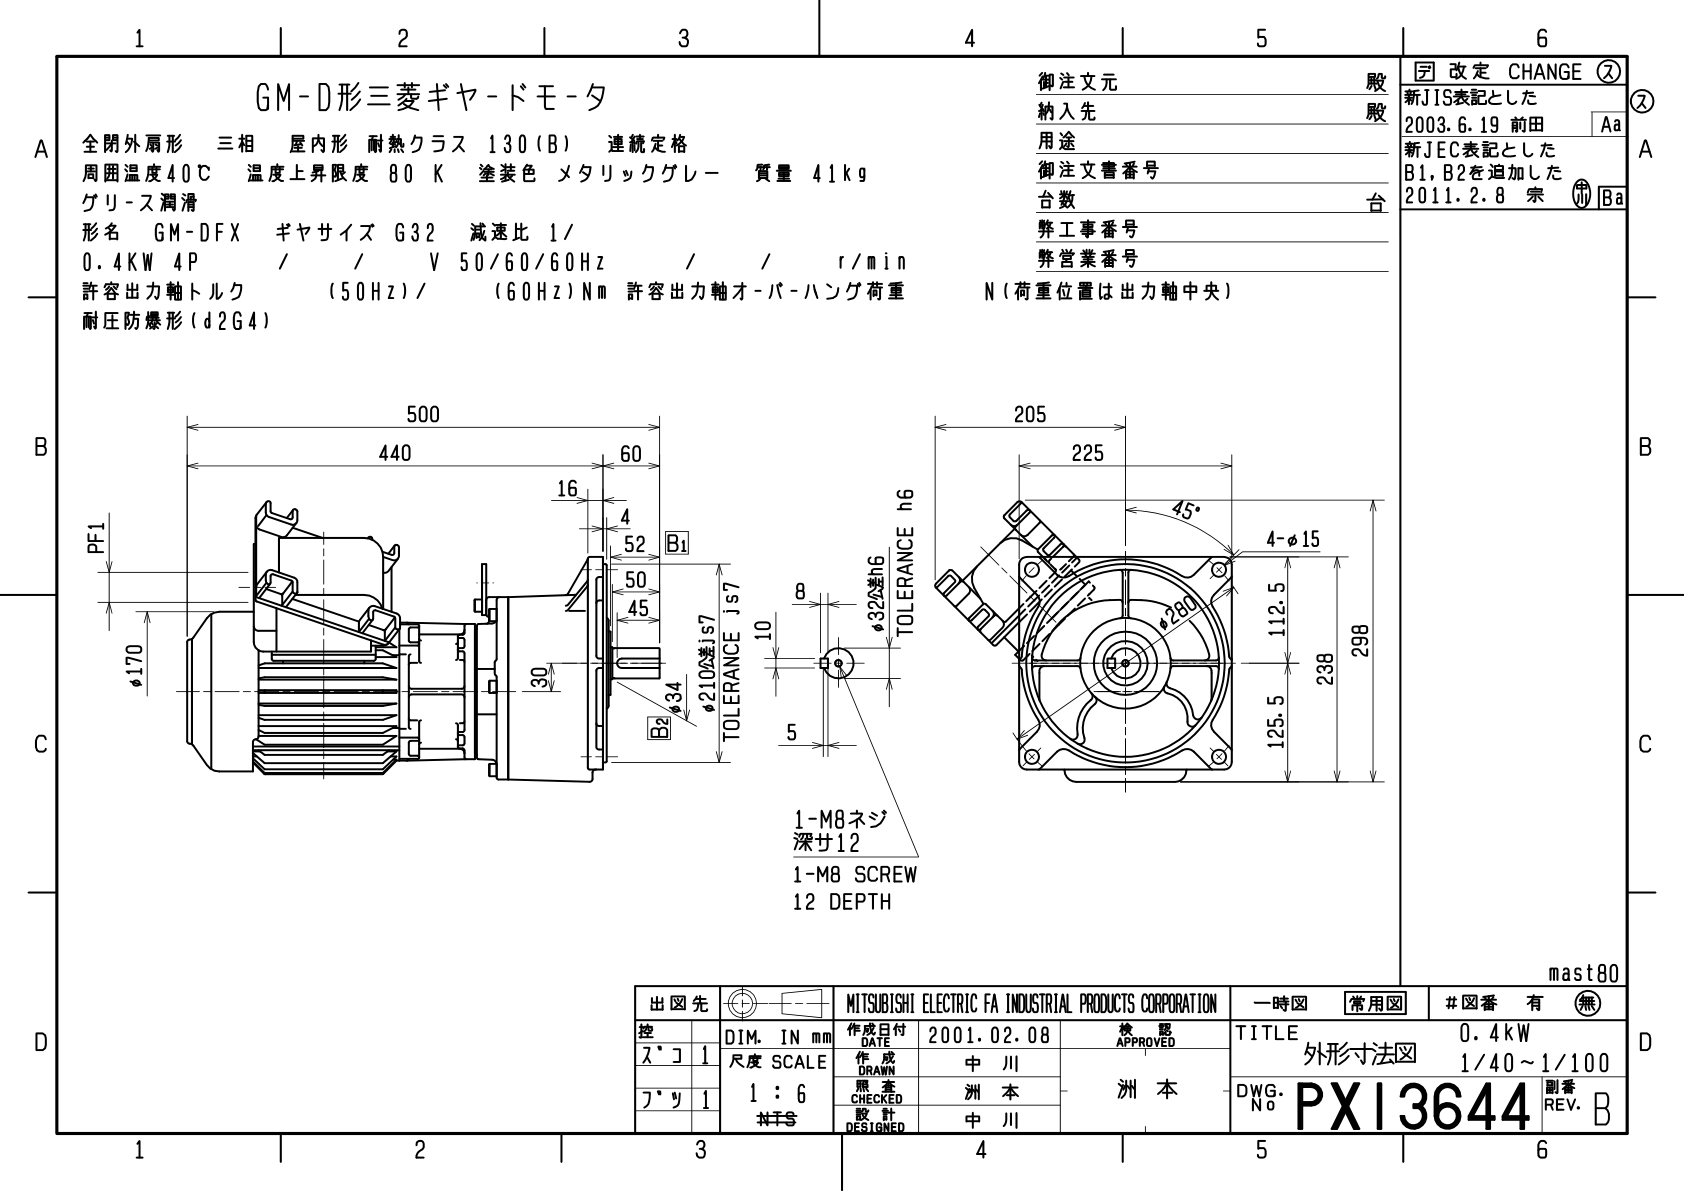GM_SP_屋内＿三相_フランジ: (75, 367, 1393, 933)
